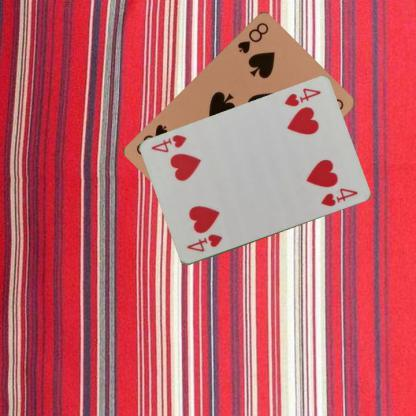4h: (184, 232, 224, 254), (282, 86, 322, 108)
8s: (234, 19, 270, 54)
